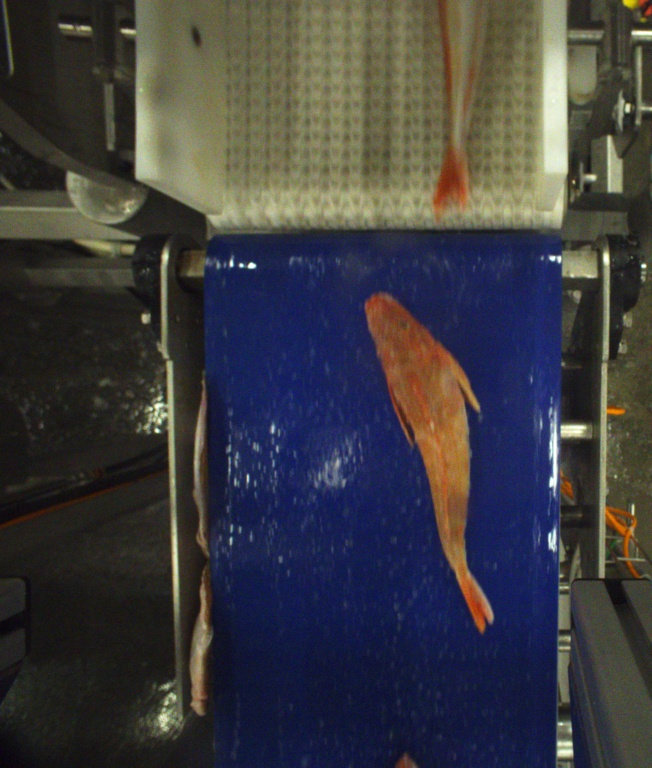GUU: (361, 292, 497, 634)
